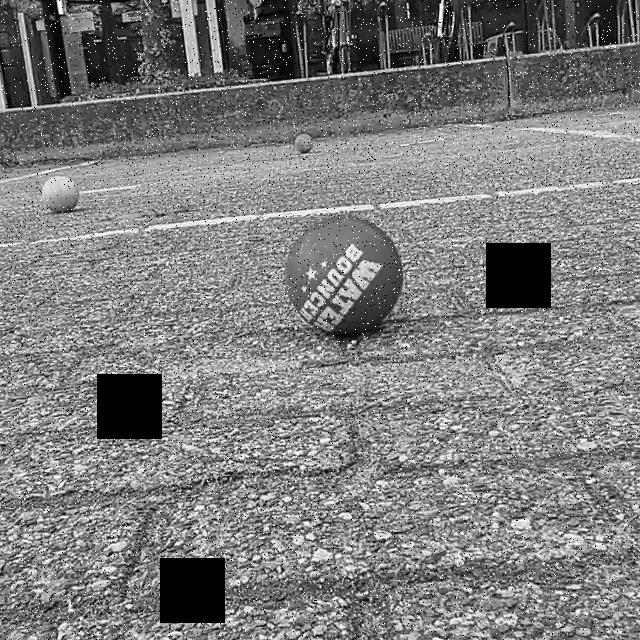ball: (40, 174, 82, 215), (292, 130, 316, 158)
